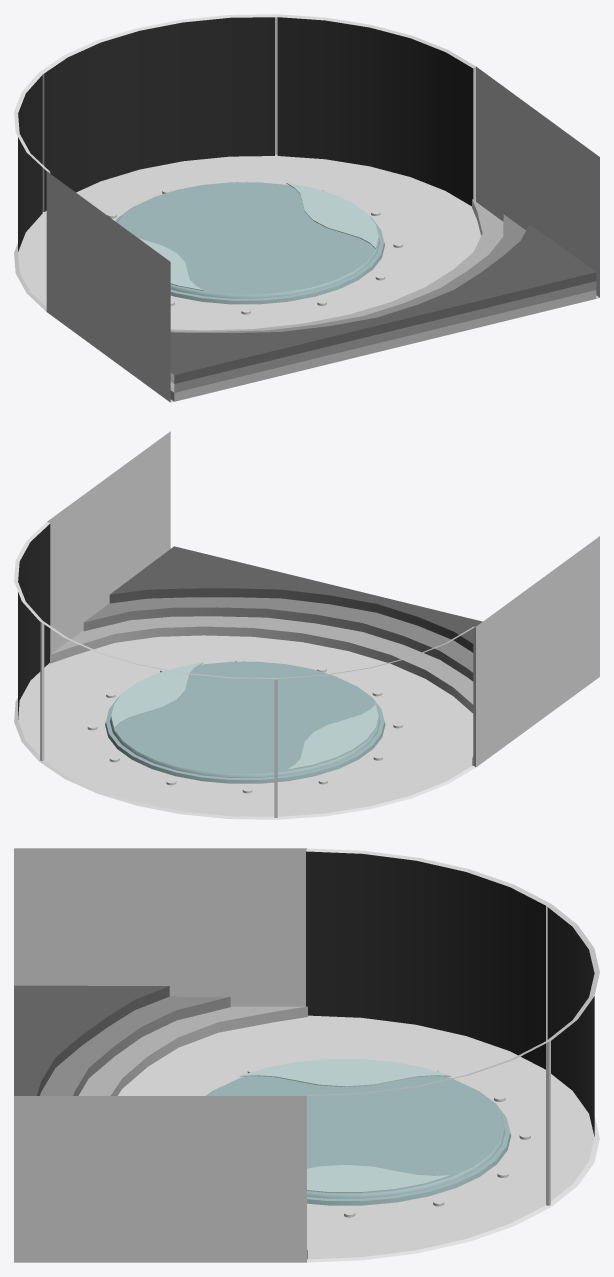
The model's file is BTU_Map_Sketch Modeling.fbx.
3 views of the same model, one above another, from view 1: azimuth 30°, elevation 25°; view 2: azimuth 150°, elevation 25°; view 3: azimuth 270°, elevation 25° (orthographic). The views are drawn at different scales.
Parts seen in each view (by area): view 1: Base Wall.002, Base Wall.003, Cylinder.006, Audience Stair.002, Audience Stair, Audience Stair.001, Cylinder.005; view 2: Base Wall.002, Cylinder.006, Audience Stair.002, Audience Stair, Audience Stair.001, Cylinder.005, Base Wall.003, Cylinder.004; view 3: Base Wall.002, Base Wall.003, Cylinder.006, Audience Stair.002, Cylinder.005, Audience Stair, Audience Stair.001.
Part boxes in pixels (x1=…): Base Wall.002: x1=14, y1=14, x2=599, y2=402; Base Wall.003: x1=18, y1=17, x2=473, y2=251; Cylinder.006: x1=115, y1=182, x2=384, y2=304; Audience Stair.002: x1=170, y1=224, x2=596, y2=383; Audience Stair: x1=170, y1=199, x2=596, y2=401; Audience Stair.001: x1=170, y1=214, x2=596, y2=392; Cylinder.005: x1=139, y1=183, x2=378, y2=290; Base Wall.002: x1=14, y1=431, x2=599, y2=819; Cylinder.006: x1=105, y1=661, x2=385, y2=783; Audience Stair.002: x1=109, y1=546, x2=482, y2=652; Audience Stair: x1=50, y1=616, x2=473, y2=765; Audience Stair.001: x1=83, y1=597, x2=473, y2=681; Cylinder.005: x1=111, y1=662, x2=378, y2=770; Base Wall.003: x1=18, y1=524, x2=50, y2=719; Cylinder.004: x1=87, y1=658, x2=402, y2=793; Base Wall.002: x1=14, y1=848, x2=599, y2=1262; Base Wall.003: x1=306, y1=851, x2=594, y2=1136; Cylinder.006: x1=206, y1=1076, x2=510, y2=1205; Audience Stair.002: x1=14, y1=985, x2=169, y2=1095; Cylinder.005: x1=239, y1=1059, x2=451, y2=1192; Audience Stair: x1=78, y1=1006, x2=307, y2=1259; Audience Stair.001: x1=40, y1=996, x2=230, y2=1095.
Size of the model in its own units: 4545 by 1430 by 4545.
